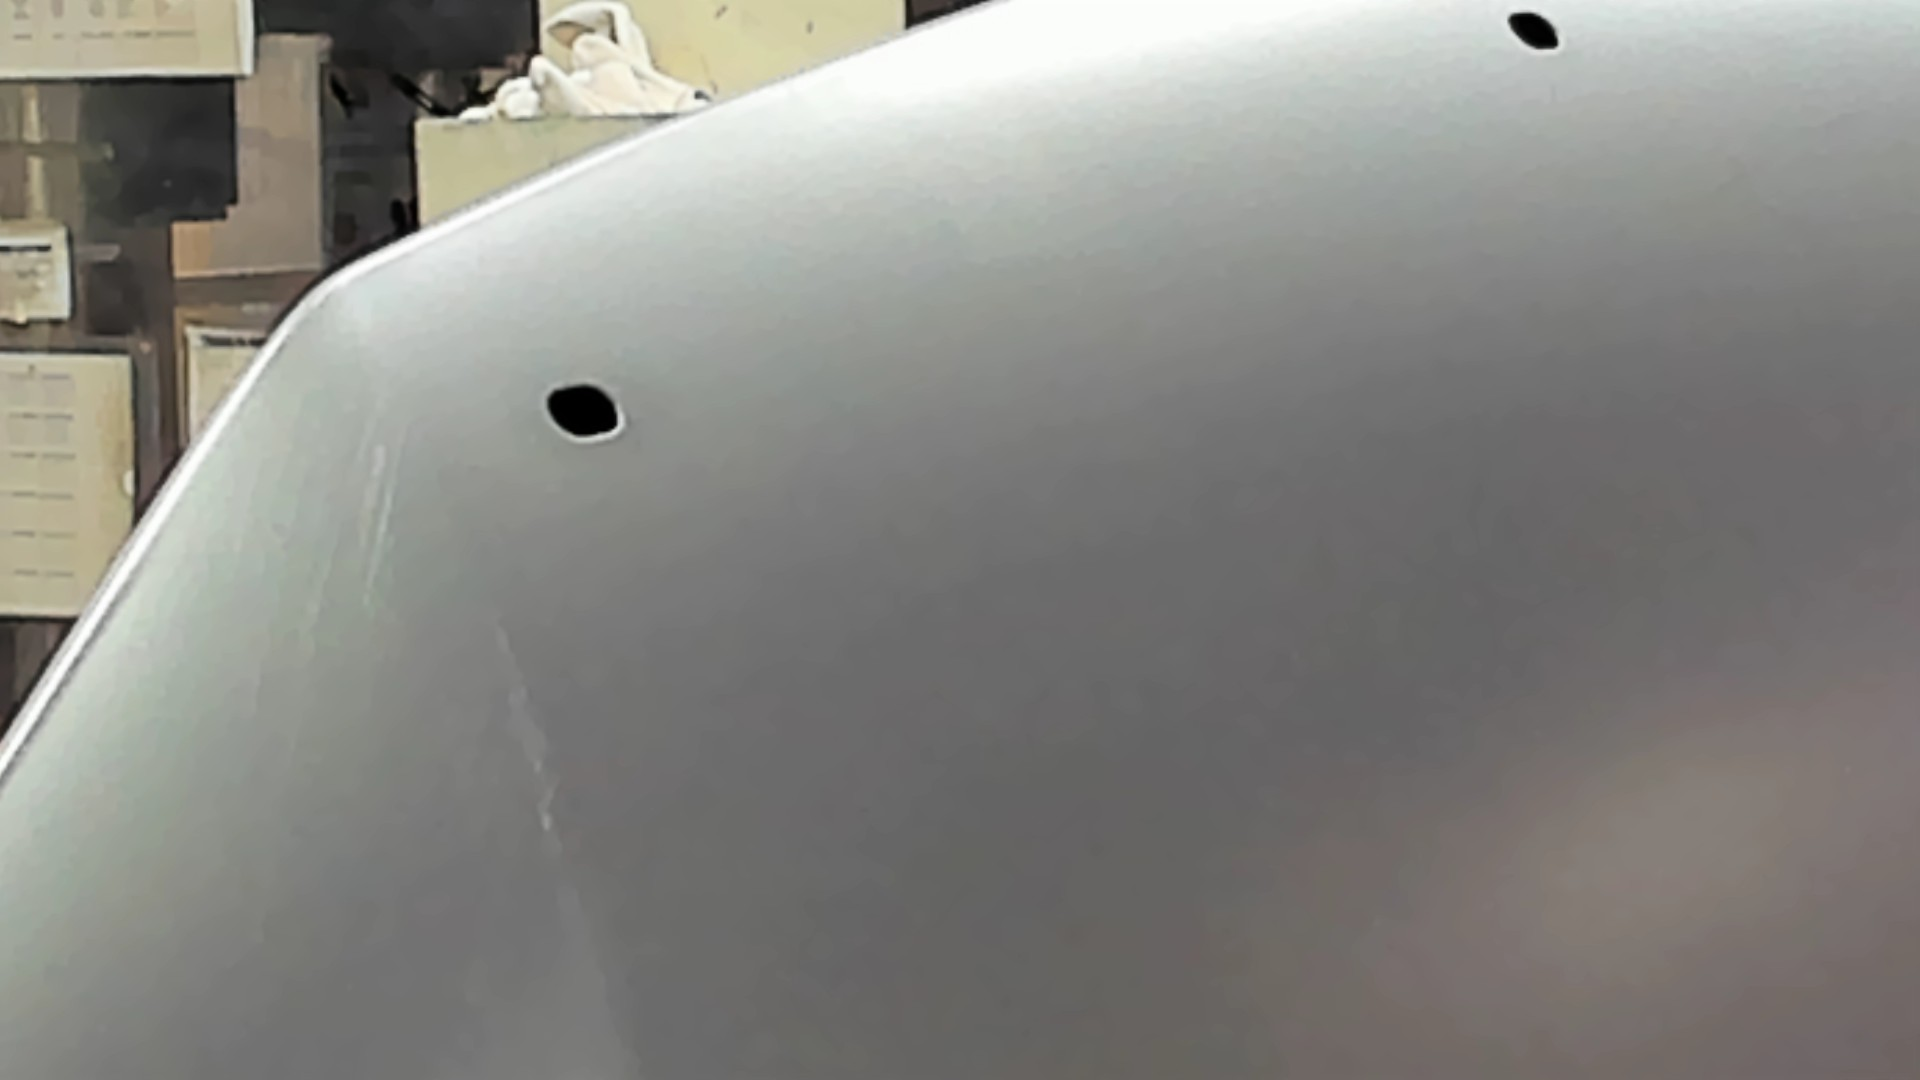amorfo: (537, 385, 624, 440), (1487, 4, 1568, 55)
